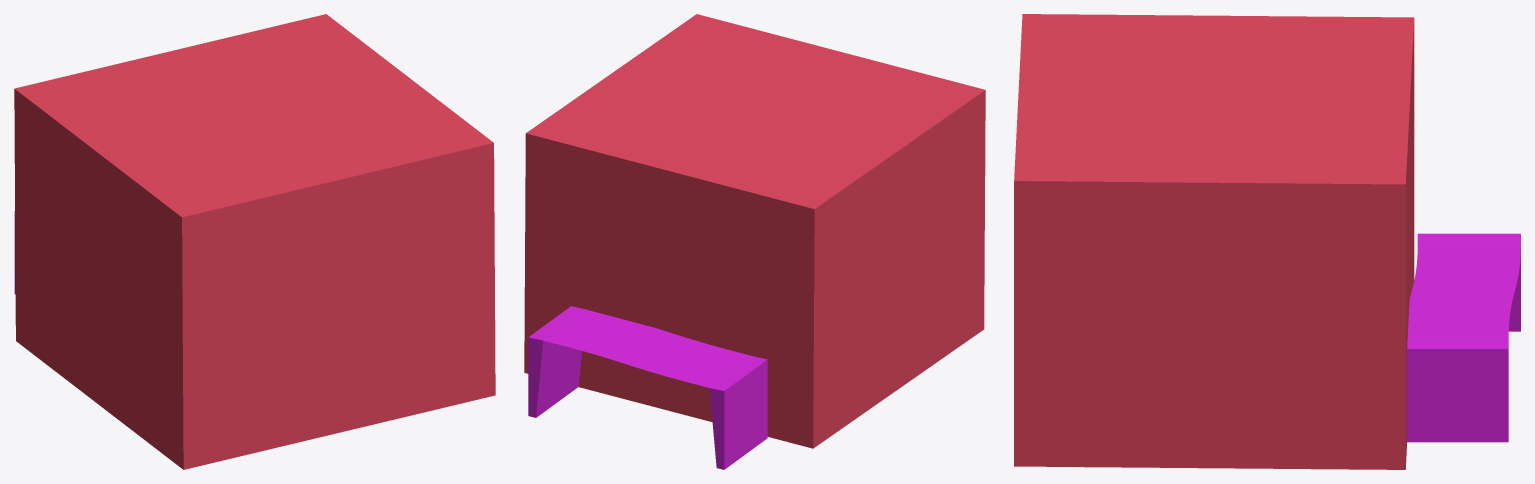
File: metaverse.glb
3 views of the same model, side by side, from view 1: azimuth 30°, elevation 25°; view 2: azimuth 150°, elevation 25°; view 3: azimuth 270°, elevation 25° (orthographic). The views are drawn at different scales.
Visible parts, largest first — view 1: Cube.001; view 2: Cube.001, Cube; view 3: Cube.001, Cube.
Part boxes in pixels (x1,y1,x2,y2): Cube.001: [14, 14, 495, 469]; Cube.001: [524, 14, 985, 448]; Cube: [528, 306, 767, 469]; Cube.001: [1014, 14, 1414, 469]; Cube: [1407, 233, 1520, 442].
Size of what is drawn, in the model's own units: 7.97 by 6.14 by 9.83.
